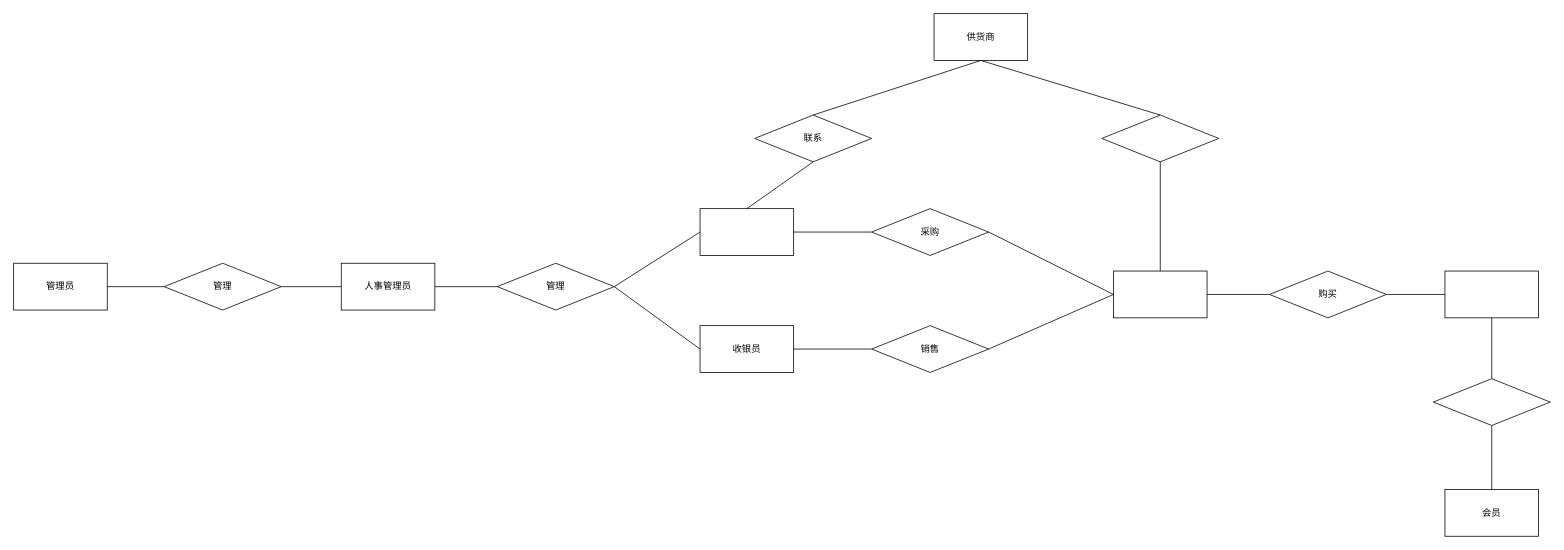
This 1564x550 diagram has some shape labels left out. The centre of each missing label's shape, as x and y in pixels:
商品: (x=1160, y=294)
客户: (x=1491, y=294)
提供: (x=1160, y=138)
申请: (x=1491, y=401)
进货采购员: (x=746, y=231)
